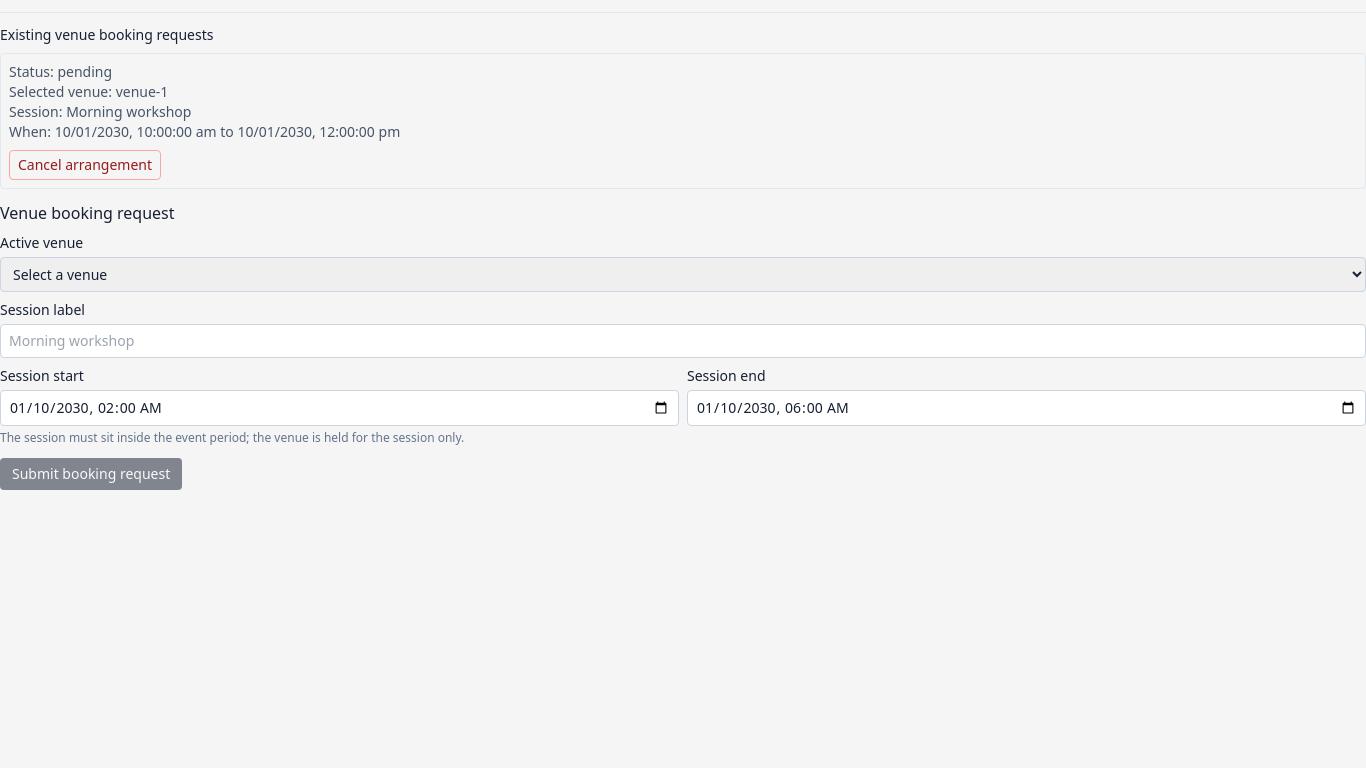
Test: SCRUM-109: the dialog names the venue and time and focuses the reason
Click the button with aria-label "Cancel arrangement for Morning workshop".
click(85, 165)  # box [9,150,161,180]
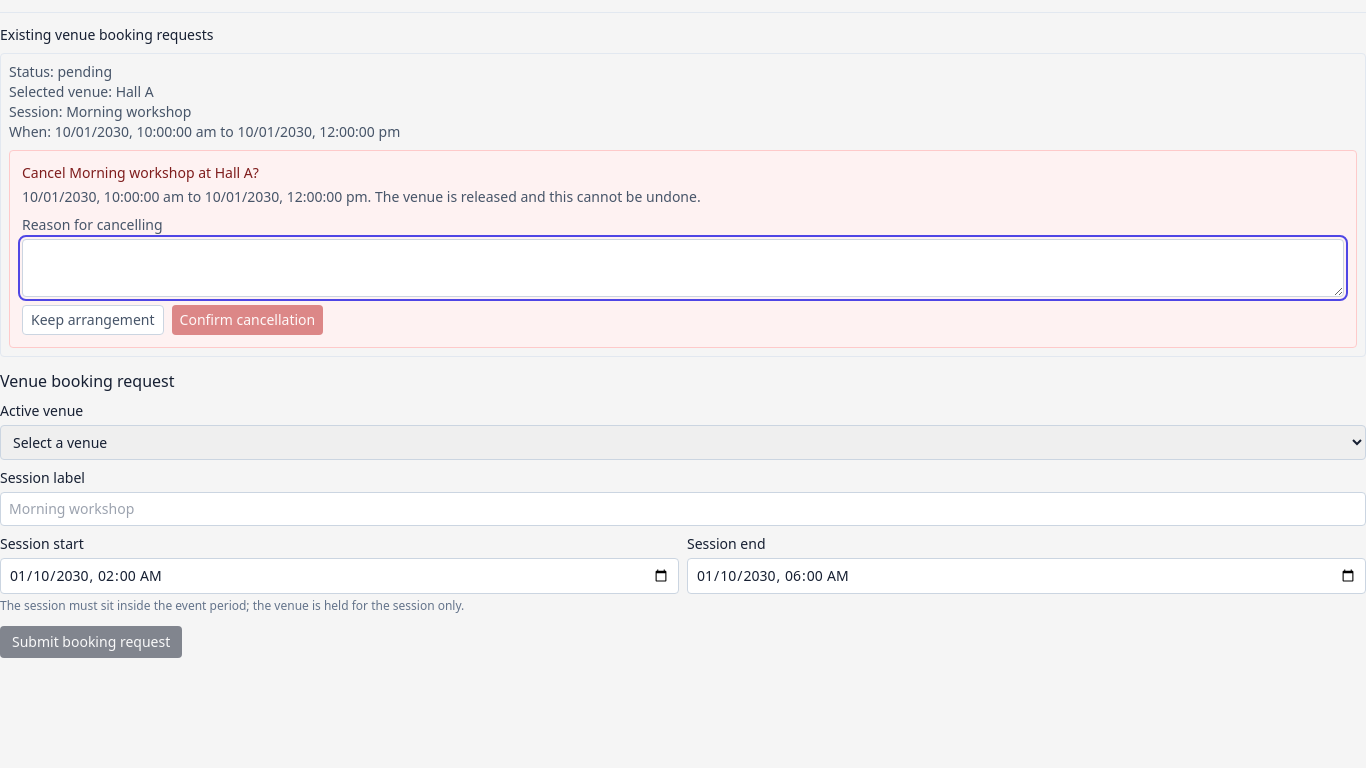
Expected: the heading "Cancel Morning workshop at Hall A?" is shown, [22,163,259,182]
